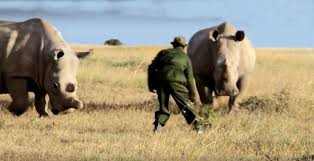Rhinoceros: (1, 12, 104, 130)
